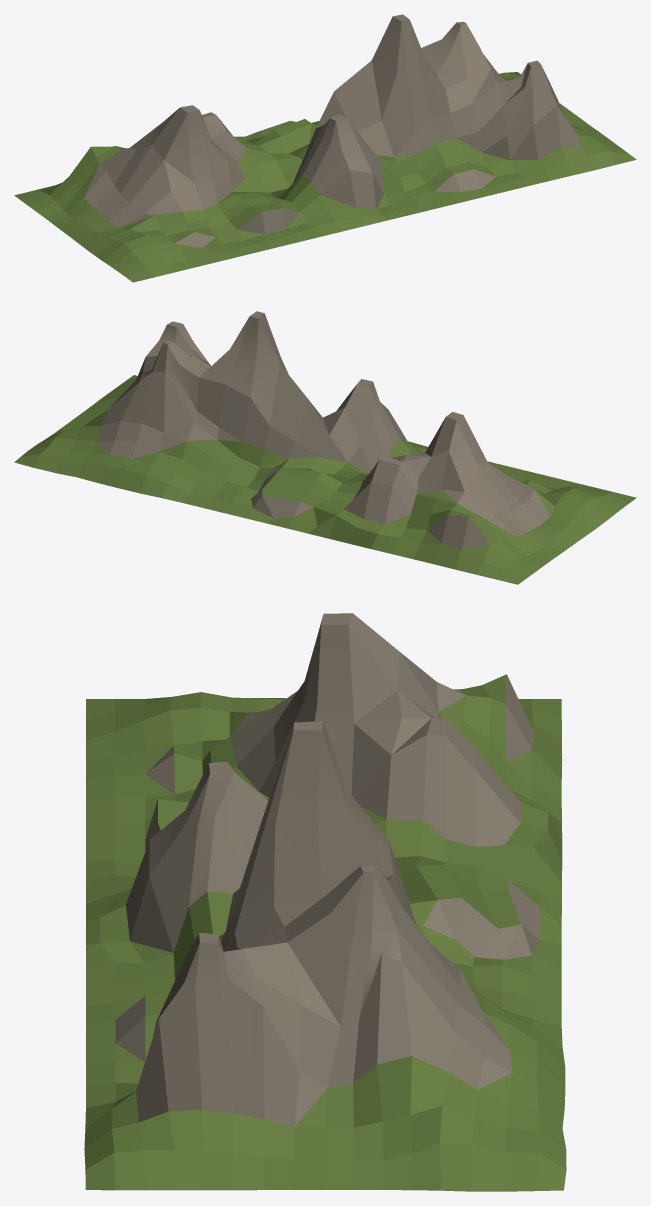
The model's file is SF_Env_BackgroundHills_02.fbx.
3 views of the same model, one above another, from view 1: azimuth 30°, elevation 25°; view 2: azimuth 150°, elevation 25°; view 3: azimuth 270°, elevation 25° (orthographic). The views are drawn at different scales.
Visible parts, largest first — view 1: SF_Env_BackgroundHills_02; view 2: SF_Env_BackgroundHills_02; view 3: SF_Env_BackgroundHills_02.
Part boxes in pixels (x1,y1,x2,y2): SF_Env_BackgroundHills_02: (14,14,636,282); SF_Env_BackgroundHills_02: (14,311,636,584); SF_Env_BackgroundHills_02: (84,613,566,1191).
Size of the model in its own units: 207 by 56.51 by 85.41.
